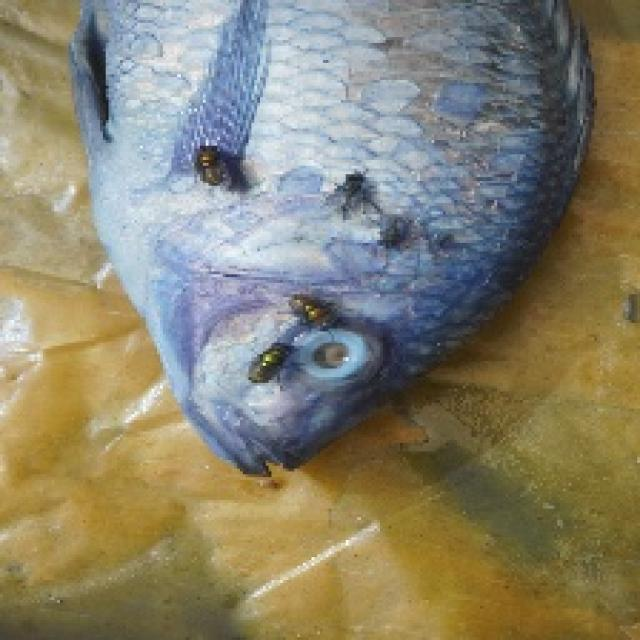Non-Fresh: (273, 294, 382, 407)
